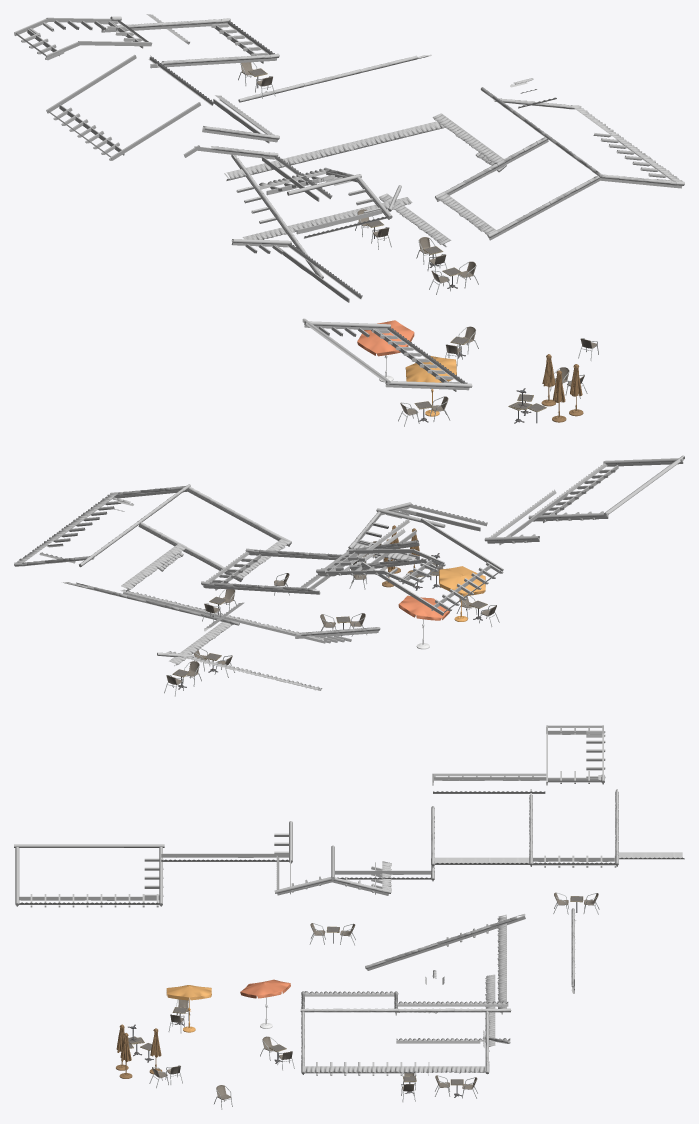
File: InfernoFinalDetails.fbx
3 renders of one model, top to bottom at view 1: azimuth 30°, elevation 25°; view 2: azimuth 150°, elevation 25°; view 3: azimuth 270°, elevation 25°, orthographic. The views are drawn at different scales.
Visible parts, largest first — view 1: node000_world_lr0_agg181_233_roofkit01_woodtrim_01.002, node000_world_lr0_agg178_287_roofkit01_trim_01_base.001, node000_world_lr0_agg324_19_terrace_parasol_01.014, node000_world_lr0_agg323_11_terrace_chair_02.003, node000_world_lr0_agg178_287_roofkit01_trim_01_base.003, node000_world_lr0_agg325_17_terrace_table_01.008; view 2: node000_world_lr0_agg181_233_roofkit01_woodtrim_01.002, node000_world_lr0_agg178_287_roofkit01_trim_01_base.001, node000_world_lr0_agg324_19_terrace_parasol_01.014, node000_world_lr0_agg323_11_terrace_chair_02.003, node000_world_lr0_agg178_287_roofkit01_trim_01_base.003, node000_world_lr0_agg325_17_terrace_table_01.008; view 3: node000_world_lr0_agg178_287_roofkit01_trim_01_base.001, node000_world_lr0_agg181_233_roofkit01_woodtrim_01.002, node000_world_lr0_agg323_11_terrace_chair_02.003, node000_world_lr0_agg324_19_terrace_parasol_01.014, node000_world_lr0_agg325_17_terrace_table_01.008, node000_world_lr0_agg178_287_roofkit01_trim_01_base.003.
Part boxes in pixels (x1,y1,x2,y2): node000_world_lr0_agg181_233_roofkit01_woodtrim_01.002: [14, 17, 682, 391]; node000_world_lr0_agg178_287_roofkit01_trim_01_base.001: [106, 14, 684, 387]; node000_world_lr0_agg324_19_terrace_parasol_01.014: [357, 320, 583, 422]; node000_world_lr0_agg323_11_terrace_chair_02.003: [238, 62, 598, 426]; node000_world_lr0_agg178_287_roofkit01_trim_01_base.003: [242, 185, 451, 245]; node000_world_lr0_agg325_17_terrace_table_01.008: [248, 68, 546, 423]; node000_world_lr0_agg181_233_roofkit01_woodtrim_01.002: [47, 461, 683, 654]; node000_world_lr0_agg178_287_roofkit01_trim_01_base.001: [14, 455, 684, 641]; node000_world_lr0_agg324_19_terrace_parasol_01.014: [382, 525, 485, 621]; node000_world_lr0_agg323_11_terrace_chair_02.003: [164, 541, 499, 696]; node000_world_lr0_agg178_287_roofkit01_trim_01_base.003: [157, 622, 322, 690]; node000_world_lr0_agg325_17_terrace_table_01.008: [172, 553, 487, 689]; node000_world_lr0_agg178_287_roofkit01_trim_01_base.001: [14, 774, 684, 1074]; node000_world_lr0_agg181_233_roofkit01_woodtrim_01.002: [16, 725, 617, 1075]; node000_world_lr0_agg323_11_terrace_chair_02.003: [149, 892, 599, 1109]; node000_world_lr0_agg324_19_terrace_parasol_01.014: [116, 979, 290, 1078]; node000_world_lr0_agg325_17_terrace_table_01.008: [128, 896, 583, 1097]; node000_world_lr0_agg178_287_roofkit01_trim_01_base.003: [396, 974, 510, 1046].
Bounding box in the file's own units: 2969 × 1478 × 3887.
